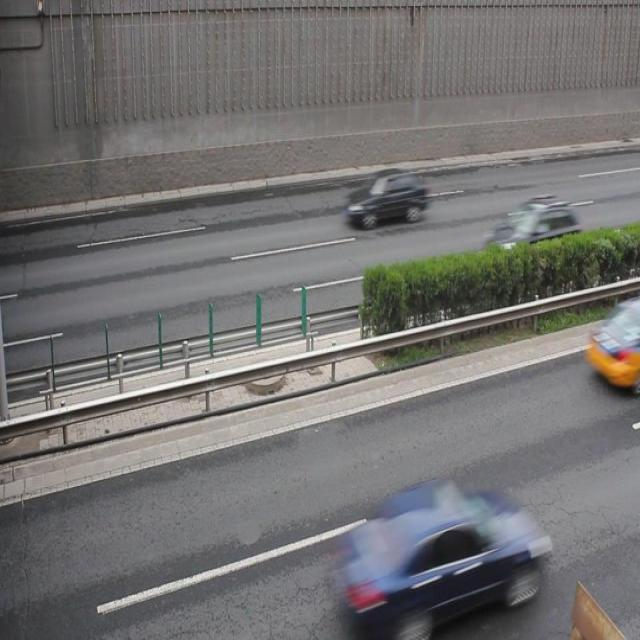car: (329, 477, 545, 640), (482, 196, 580, 261), (346, 168, 427, 226), (585, 307, 640, 385)
